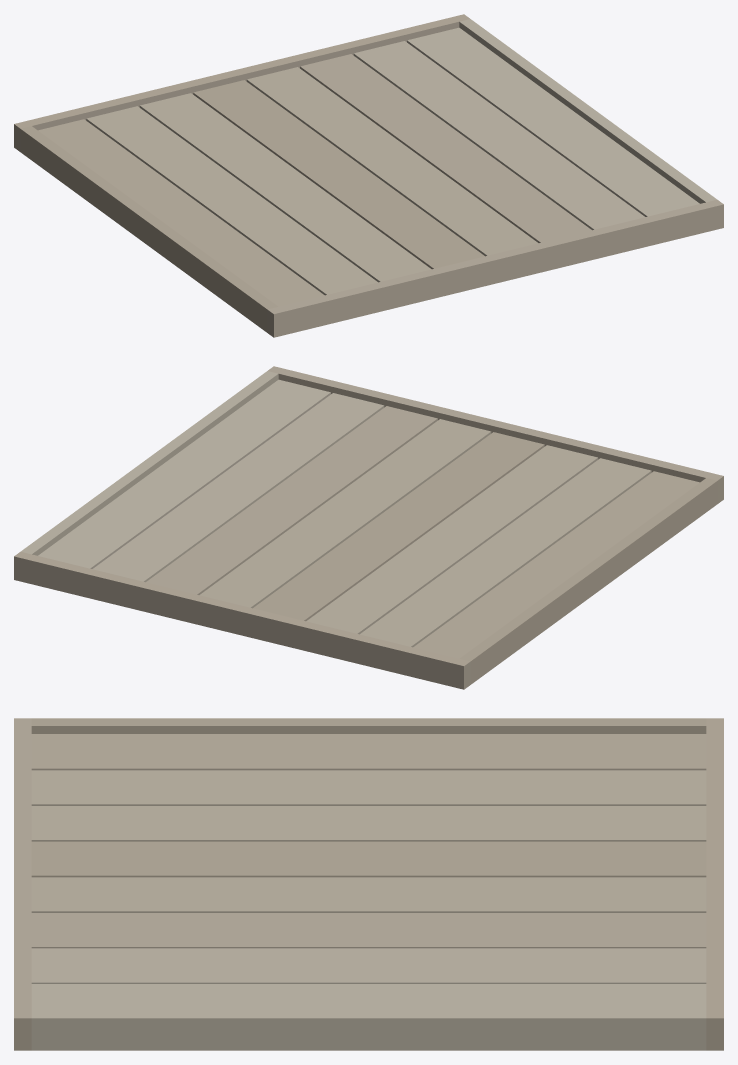
The model's file is FlatRoof8.glb.
The picture shows the model from 3 angles, top to bottom: view 1: azimuth 30°, elevation 25°; view 2: azimuth 150°, elevation 25°; view 3: azimuth 270°, elevation 25°; orthographic projection. The views are drawn at different scales.
Parts seen in each view (by area): view 1: Wood; view 2: Wood; view 3: Wood.
Boxes of the visible parts, bbox=[...] form: Wood: bbox=[14, 14, 723, 337]; Wood: bbox=[14, 366, 723, 689]; Wood: bbox=[14, 718, 723, 1050].
Size of what is drawn, in the model's own units: 8 by 0.4 by 8.
